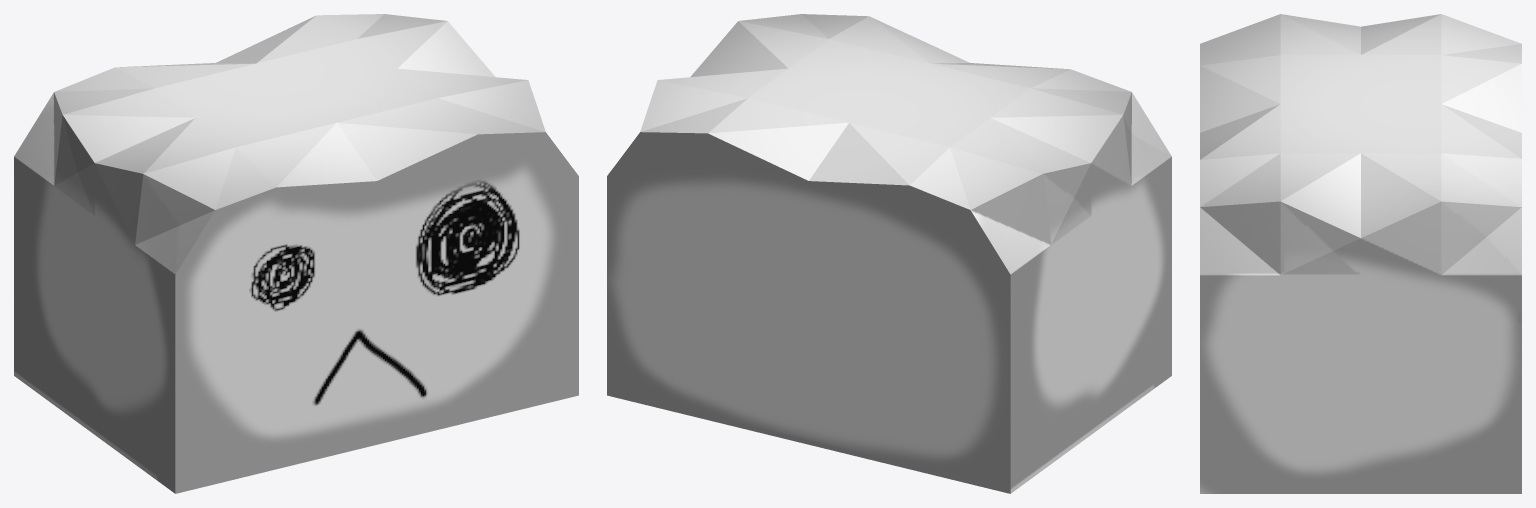
Rendered from EnemyTest_Body.obj.
3 views of the same model, side by side, from view 1: azimuth 30°, elevation 25°; view 2: azimuth 150°, elevation 25°; view 3: azimuth 270°, elevation 25° (orthographic).
Visible parts, largest first — view 1: Cube; view 2: Cube; view 3: Cube.
Part boxes in pixels (x1,y1,x2,y2): Cube: (14, 14, 578, 493); Cube: (607, 14, 1171, 493); Cube: (1200, 14, 1521, 493).
Size of the model in its own units: 2.89 by 2 by 2.
1 material, 1 textured.
